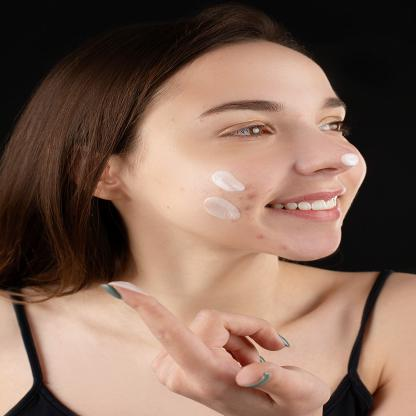Eye: (214, 120, 276, 141), (314, 114, 350, 132)
Mouth: (264, 188, 346, 222)
Nose: (293, 126, 355, 176)
